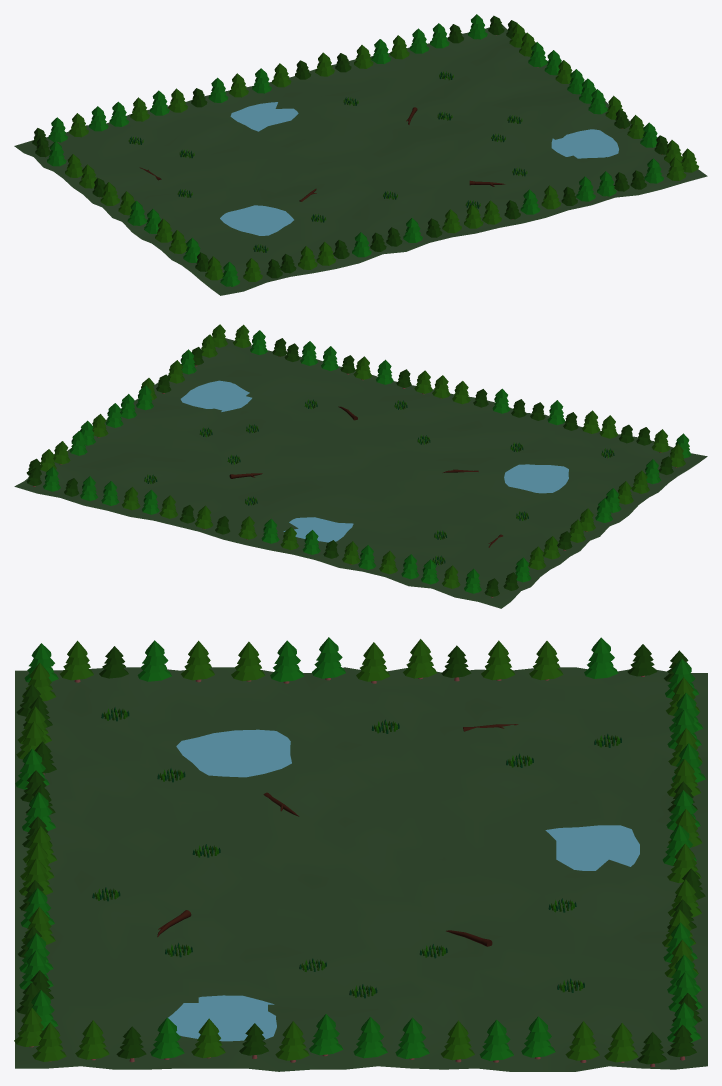
Rendered from Field.fbx.
3 views of the same model, one above another, from view 1: azimuth 30°, elevation 25°; view 2: azimuth 150°, elevation 25°; view 3: azimuth 270°, elevation 25° (orthographic). The views are drawn at different scales.
Visible parts, largest first — view 1: Field, Puddle3, Puddle2, Puddle1; view 2: Field, Puddle3, Puddle2, Puddle1; view 3: Field, Puddle3, Puddle2, Puddle1, Tree3.011, Tree3.017, Tree3.010, Tree3.021, Tree3.009, Tree3.001, Tree3.022, Tree3.015 (+19 smaller).
Boxes of the visible parts, x1,y1,x2,y2 form: Field: (14, 24, 707, 295); Puddle3: (220, 205, 293, 235); Puddle2: (551, 129, 618, 158); Puddle1: (230, 102, 298, 131); Field: (14, 338, 707, 608); Puddle3: (504, 464, 568, 493); Puddle2: (180, 380, 251, 411); Puddle1: (283, 517, 353, 542); Field: (15, 667, 707, 1071); Puddle3: (176, 729, 291, 777); Puddle2: (168, 995, 276, 1041); Puddle1: (545, 825, 639, 870); Tree3.011: (312, 637, 345, 680); Tree3.017: (150, 1017, 184, 1059); Tree3.010: (270, 640, 304, 683); Tree3.021: (309, 1014, 343, 1056); Tree3.009: (479, 1019, 513, 1062); Tree3.001: (521, 1016, 555, 1059); Tree3.022: (395, 1017, 429, 1059); Tree3.015: (137, 640, 171, 681).
Bounding box in the file's own units: 8807 × 468 × 6435.
